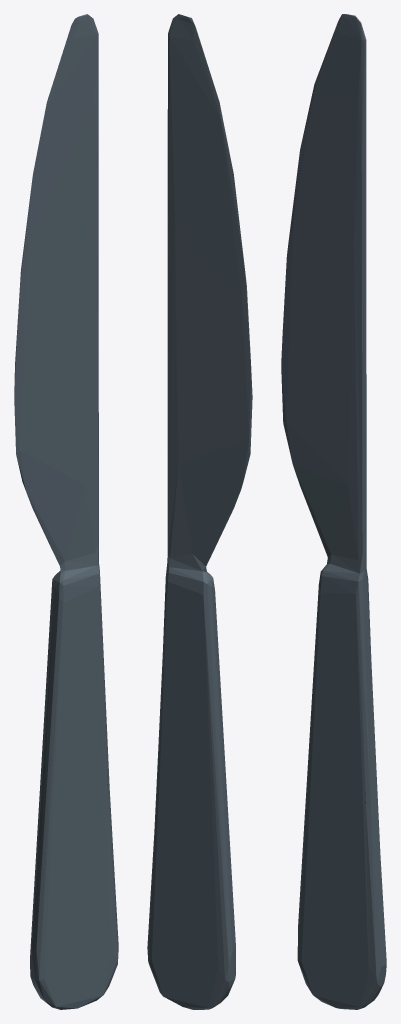
Rendered from Knife10.fbx.
The picture shows the model from 3 angles, left to right: view 1: azimuth 30°, elevation 25°; view 2: azimuth 150°, elevation 25°; view 3: azimuth 330°, elevation 25°; orthographic projection.
Parts seen in each view (by area): view 1: Knife10LowPoly; view 2: Knife10LowPoly; view 3: Knife10LowPoly.
Part boxes in pixels (x1,y1,x2,y2): Knife10LowPoly: (14,14,118,1009); Knife10LowPoly: (147,14,252,1009); Knife10LowPoly: (281,14,386,1009).
Size of the model in its own units: 2.26 by 20.96 by 0.3913.
